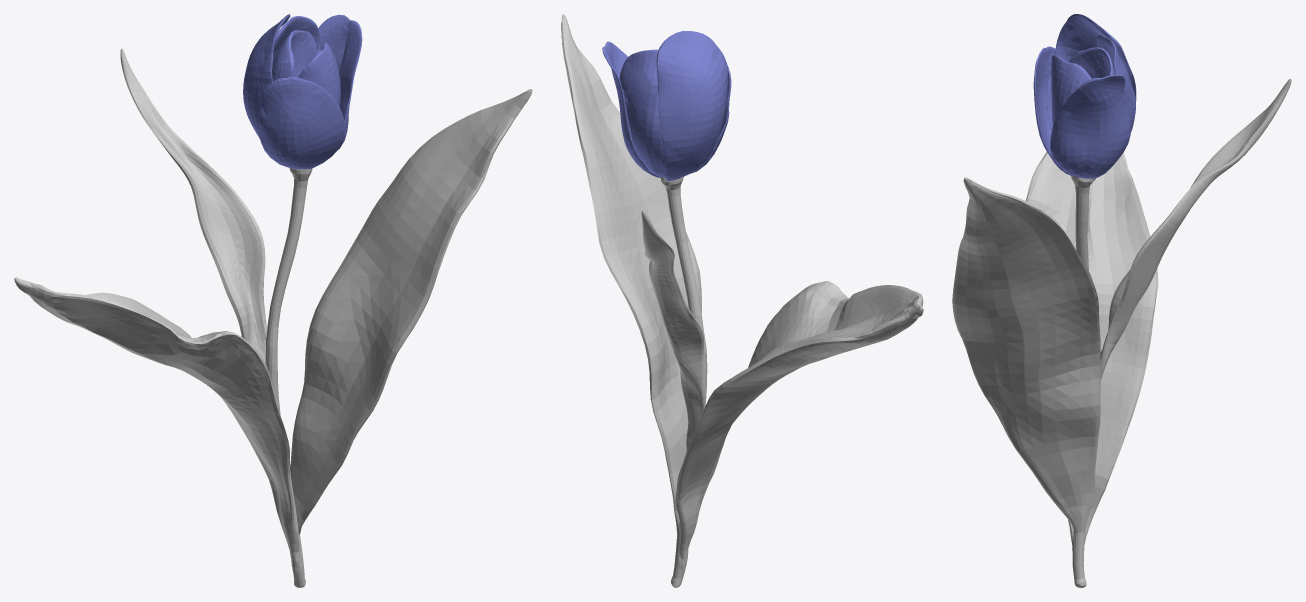
Rendered from {188f3a52-d605-4dca-b7bf-824099b2b5ea}.3DBuilder.gltf.
3 renders of one model, left to right at view 1: azimuth 30°, elevation 25°; view 2: azimuth 150°, elevation 25°; view 3: azimuth 270°, elevation 25°, orthographic. The views are drawn at different scales.
Size of the model in its own units: 0.1195 by 0.1475 by 0.0802.
